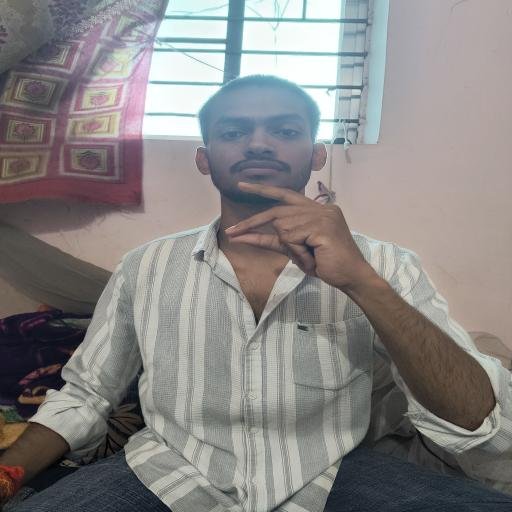Bad: (210, 166, 399, 295)
